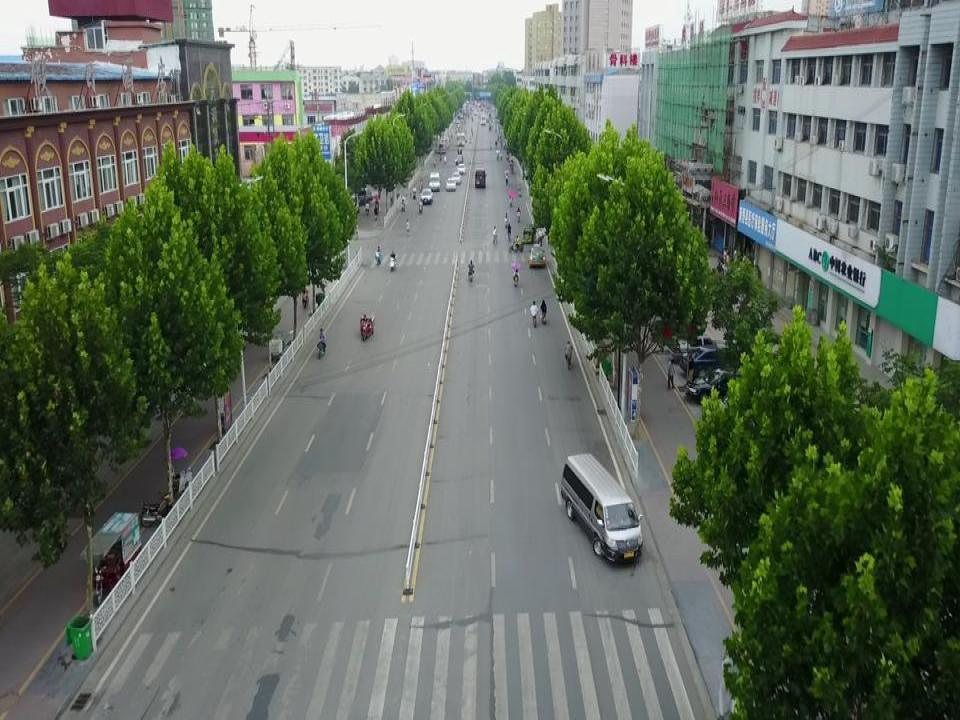bus: (456, 132, 464, 147), (480, 116, 485, 127)
car: (687, 368, 766, 403), (684, 345, 753, 372), (674, 335, 716, 361), (529, 245, 546, 268), (356, 188, 373, 203), (420, 188, 433, 205), (445, 178, 455, 190), (456, 164, 465, 175), (454, 155, 463, 165), (451, 173, 459, 184)
van: (561, 454, 643, 562), (427, 173, 441, 191), (475, 168, 487, 188)
